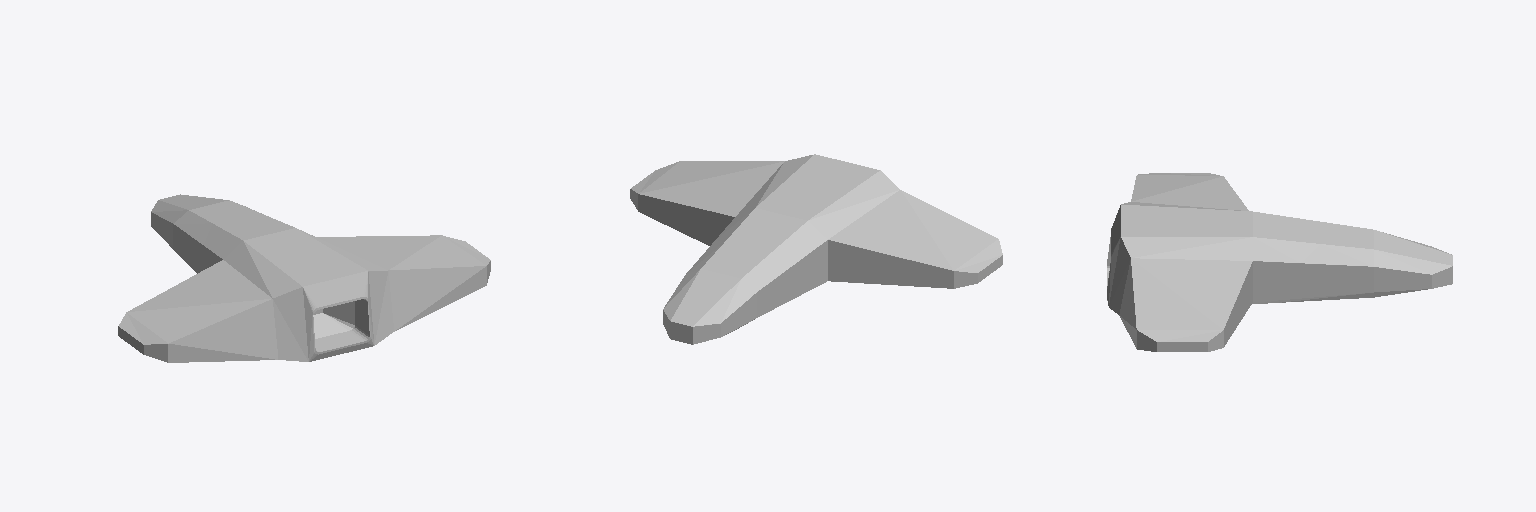
Rendered from SpaceShip2.obj.
3 views of the same model, side by side, from view 1: azimuth 30°, elevation 25°; view 2: azimuth 150°, elevation 25°; view 3: azimuth 270°, elevation 25° (orthographic).
Visible parts, largest first — view 1: Ship_Cube.001; view 2: Ship_Cube.001; view 3: Ship_Cube.001.
Boxes of the visible parts, x1,y1,x2,y2 form: Ship_Cube.001: [118, 194, 490, 362]; Ship_Cube.001: [630, 154, 1002, 344]; Ship_Cube.001: [1107, 173, 1452, 351].
Size of the model in its own units: 3.44 by 0.6712 by 2.97.